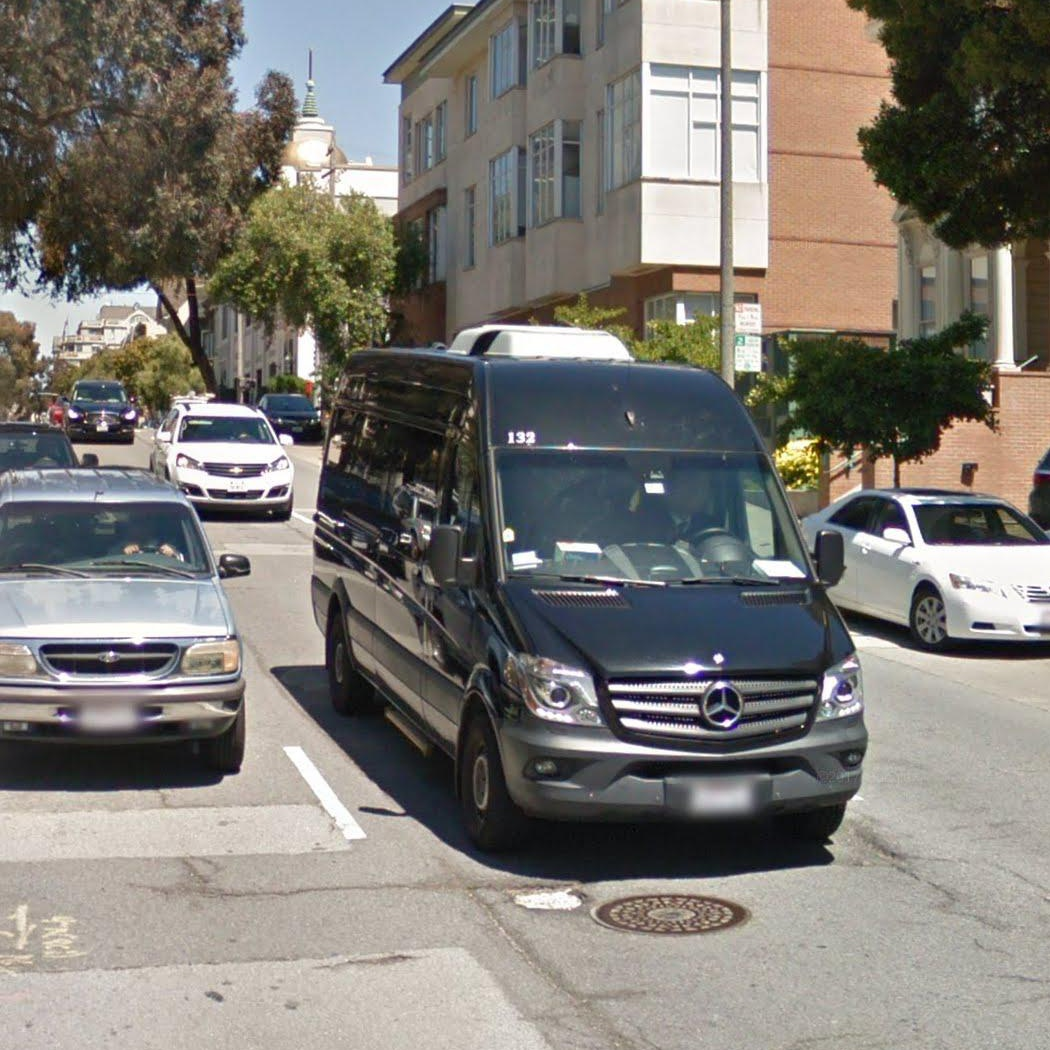2 Hour Parking: (731, 335, 764, 373)
No Parking: (733, 301, 763, 335)
